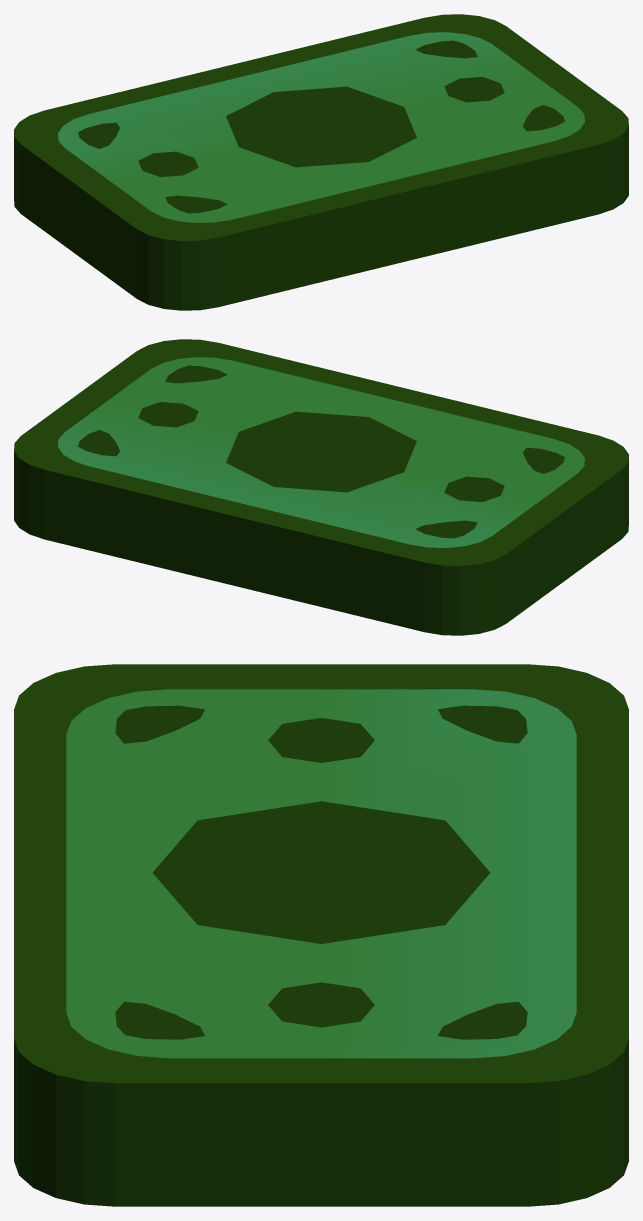
The model's file is moneyDollar01.fbx.
3 renders of one model, top to bottom at view 1: azimuth 30°, elevation 25°; view 2: azimuth 150°, elevation 25°; view 3: azimuth 270°, elevation 25°, orthographic. The views are drawn at different scales.
Visible parts, largest first — view 1: Dollar; view 2: Dollar; view 3: Dollar.
Part boxes in pixels (box(x1,y1,x2,y2)): Dollar: box(14, 14, 628, 310); Dollar: box(14, 339, 628, 635); Dollar: box(14, 664, 628, 1206).
Size of the model in its own units: 1.26 by 0.7794 by 0.1756.
